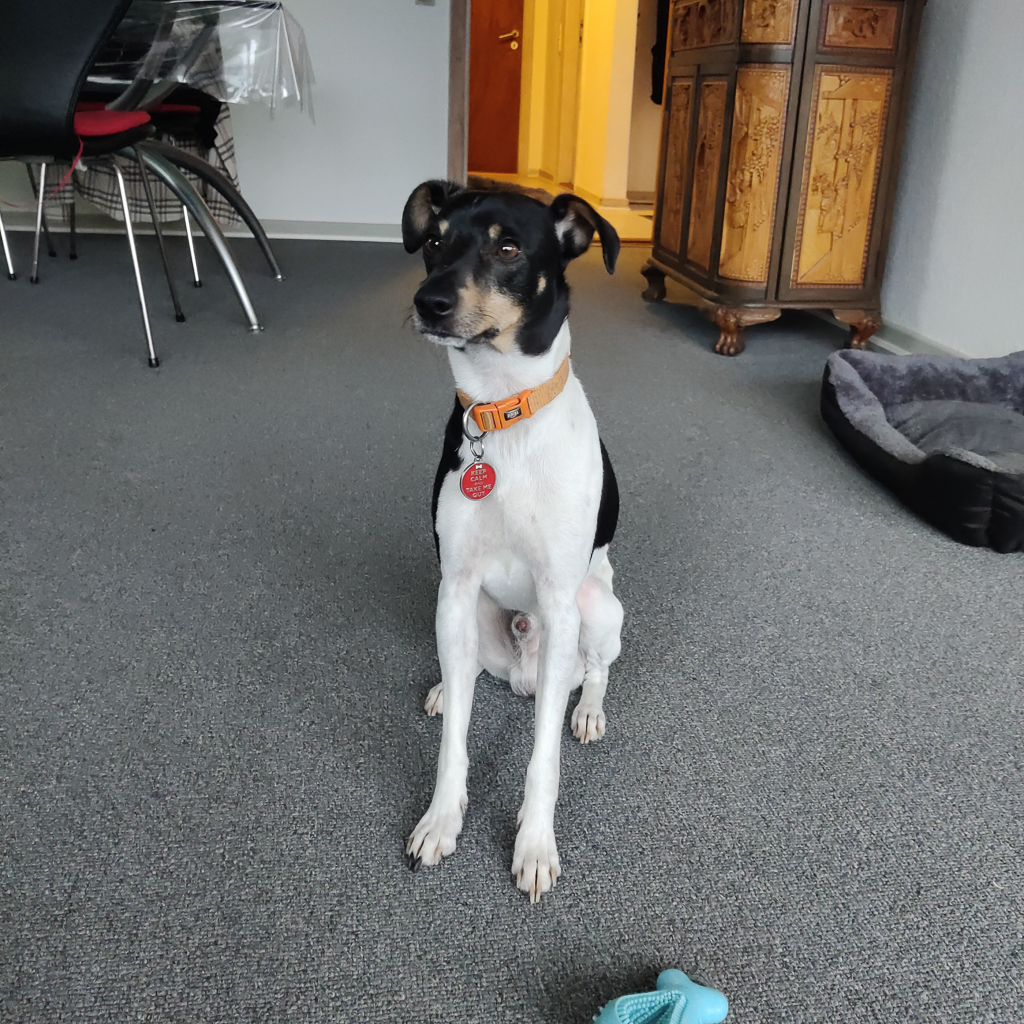Dog: (340, 151, 656, 908)
